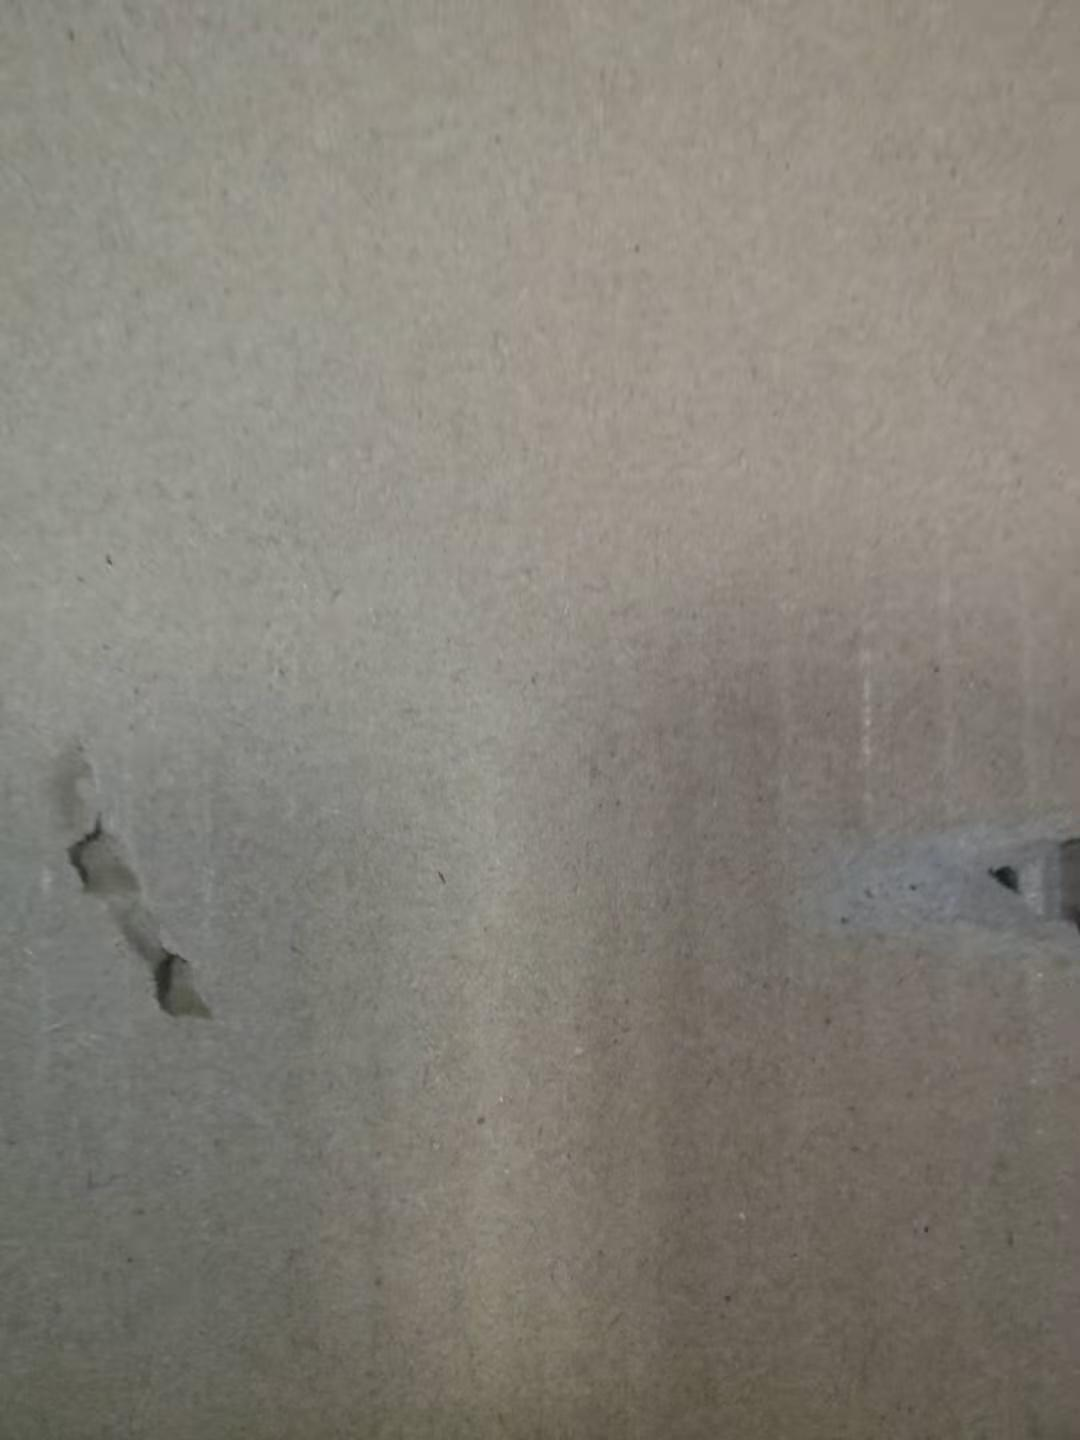defect: (19, 708, 252, 1064), (762, 790, 1080, 997)
